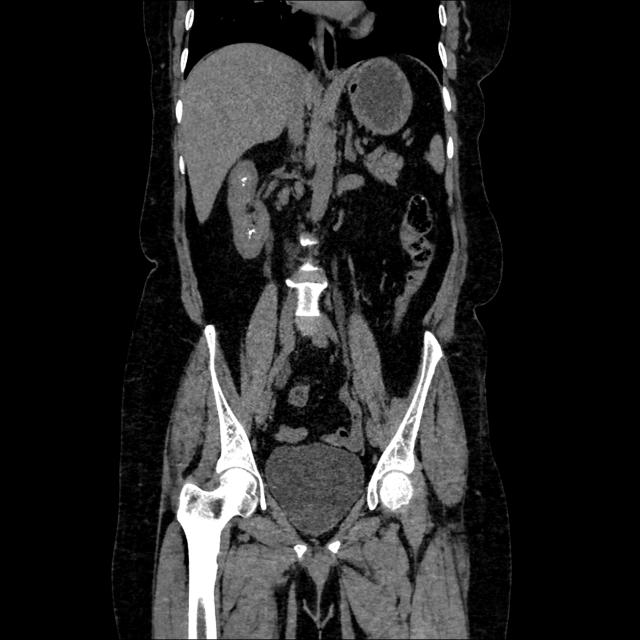kidney: (226, 158, 269, 260)
stone: (247, 228, 255, 239), (240, 176, 247, 182), (242, 184, 246, 186)
